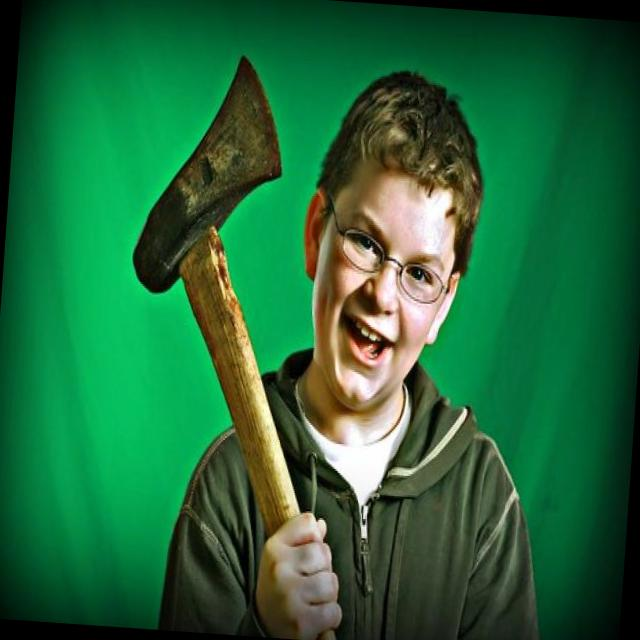Axe: (132, 56, 298, 535)
